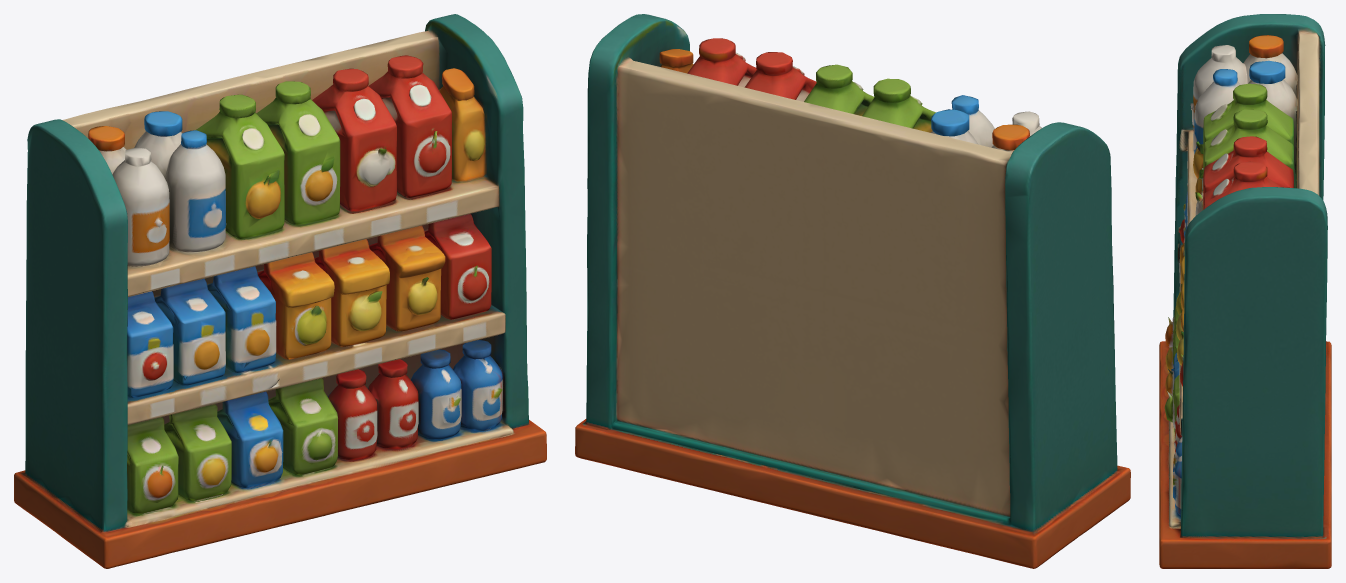
File: DisplayShelf.glb
The picture shows the model from 3 angles, left to right: view 1: azimuth 30°, elevation 25°; view 2: azimuth 150°, elevation 25°; view 3: azimuth 270°, elevation 25°; orthographic projection. The views are drawn at different scales.
Visible parts, largest first — view 1: tripo_node_e43c6e84-9ae0-4bc3-bc47-93754efb0bd6; view 2: tripo_node_e43c6e84-9ae0-4bc3-bc47-93754efb0bd6; view 3: tripo_node_e43c6e84-9ae0-4bc3-bc47-93754efb0bd6.
Part boxes in pixels (x1,y1,x2,y2): tripo_node_e43c6e84-9ae0-4bc3-bc47-93754efb0bd6: [14, 14, 546, 568]; tripo_node_e43c6e84-9ae0-4bc3-bc47-93754efb0bd6: [575, 14, 1130, 568]; tripo_node_e43c6e84-9ae0-4bc3-bc47-93754efb0bd6: [1159, 14, 1331, 568].
Size of the model in its own units: 0.979 by 0.8372 by 0.3547.
Materials: 1 (1 with a texture image).
